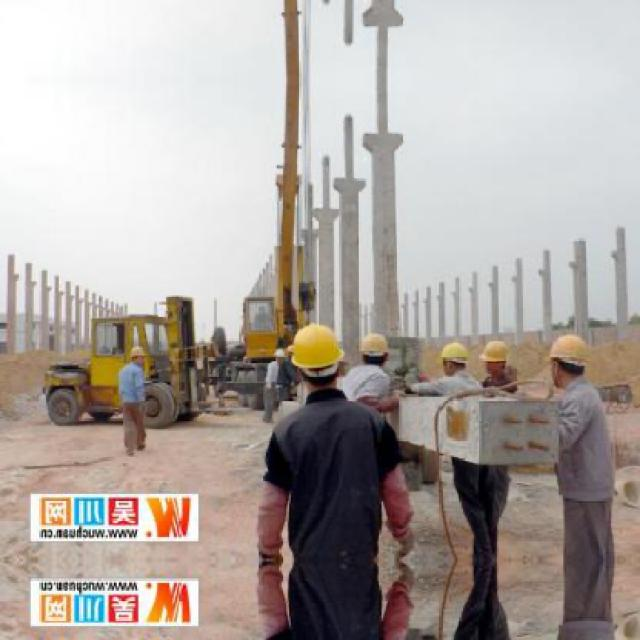helmet: (286, 317, 348, 391), (546, 332, 591, 390), (362, 329, 392, 371), (480, 338, 512, 377), (438, 342, 471, 378), (131, 345, 149, 366)
